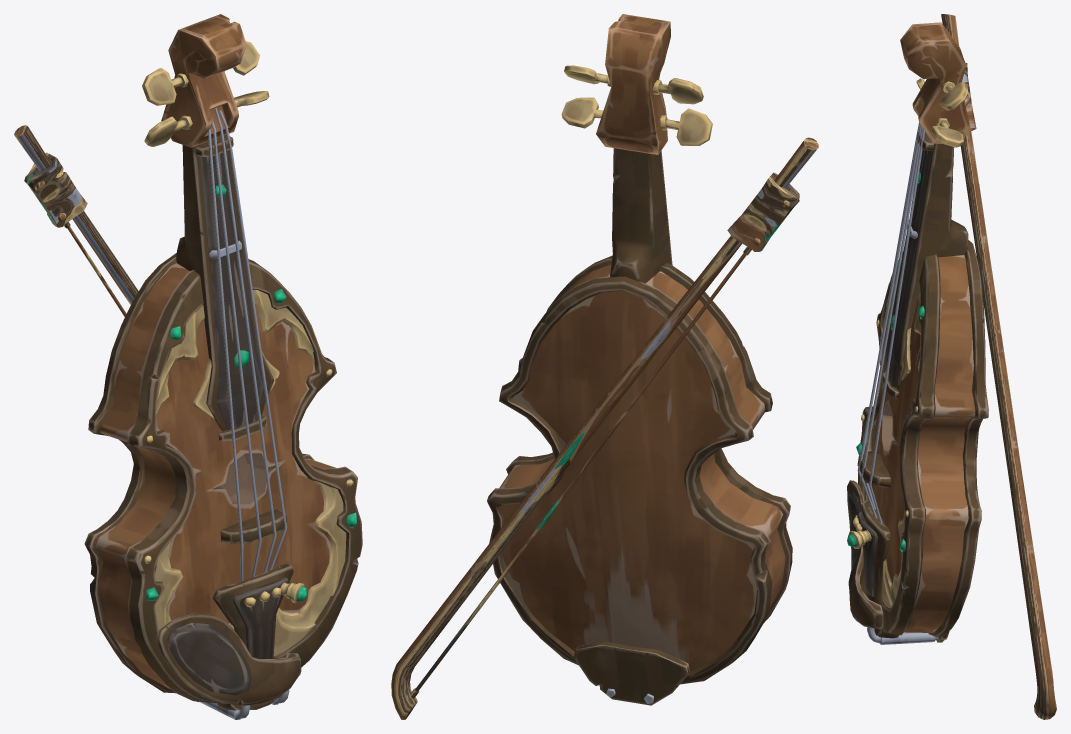
File: Violin.fbx
3 renders of one model, left to right at view 1: azimuth 30°, elevation 25°; view 2: azimuth 150°, elevation 25°; view 3: azimuth 270°, elevation 25°, orthographic. The views are drawn at different scales.
Visible parts, largest first — view 1: Violin; view 2: Violin; view 3: Violin.
Boxes of the visible parts, left/top/right/bottom form: Violin: left=14, top=14, right=362, bottom=719; Violin: left=391, top=14, right=818, bottom=719; Violin: left=847, top=14, right=1056, bottom=719.
Bounding box in the file's own units: 43.92 × 78.22 × 24.3.
